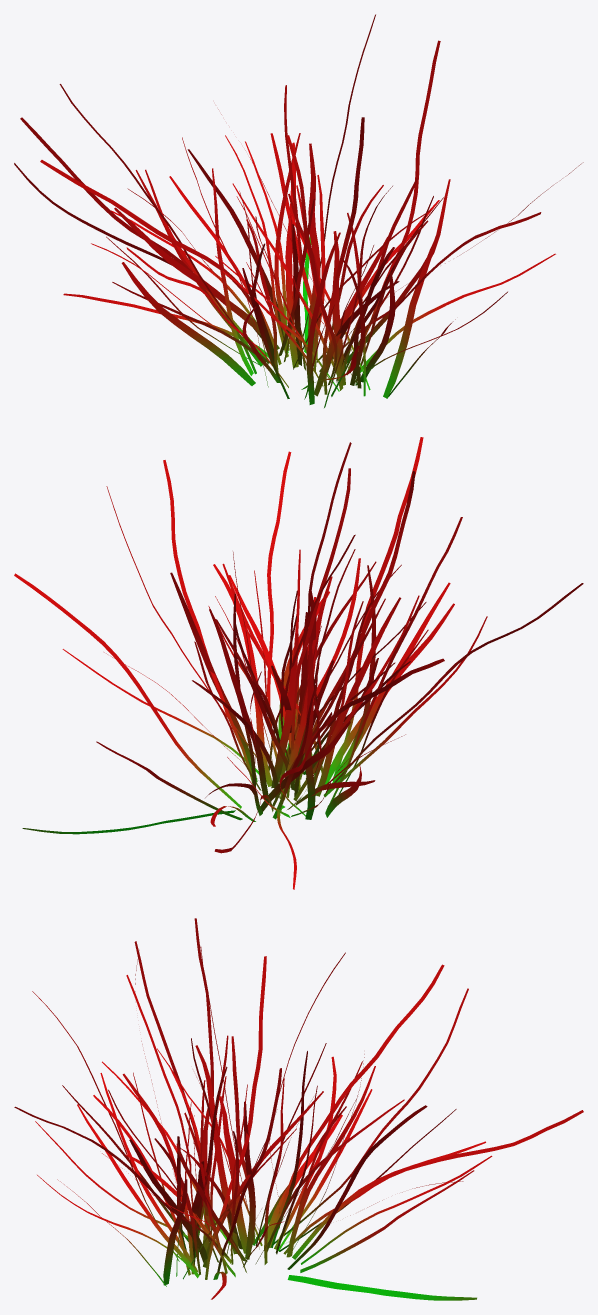
The model's file is Var5_LOD0.fbx.
3 renders of one model, top to bottom at view 1: azimuth 30°, elevation 25°; view 2: azimuth 150°, elevation 25°; view 3: azimuth 270°, elevation 25°, orthographic. The views are drawn at different scales.
Parts seen in each view (by area): view 1: _84rw_Var5_LOD0; view 2: _84rw_Var5_LOD0; view 3: _84rw_Var5_LOD0.
Part boxes in pixels (box(x1,y1,x2,y2)): _84rw_Var5_LOD0: box(14, 14, 583, 407); _84rw_Var5_LOD0: box(14, 437, 583, 889); _84rw_Var5_LOD0: box(14, 918, 583, 1300).
Bounding box in the file's own units: 35.9 × 23.48 × 39.87.
